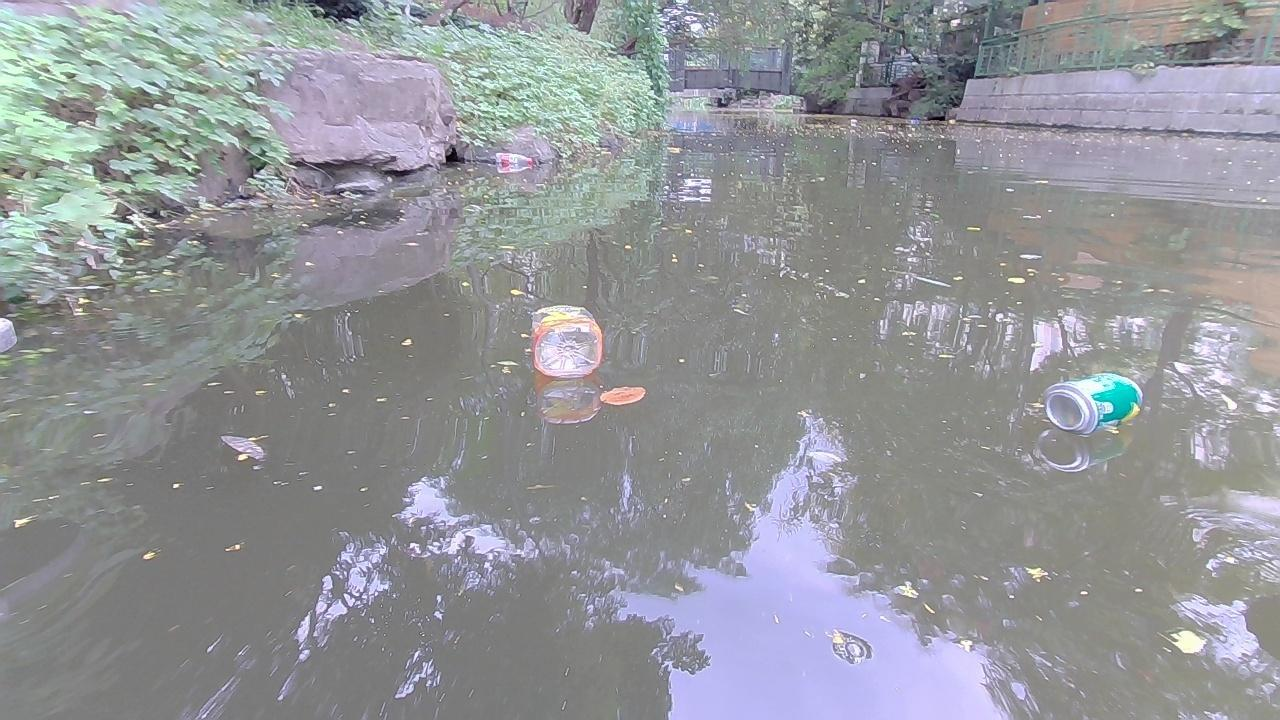bottle: (1045, 369, 1146, 434), (530, 301, 604, 381), (492, 149, 539, 166), (905, 117, 922, 127), (946, 116, 957, 124), (847, 118, 858, 122)
